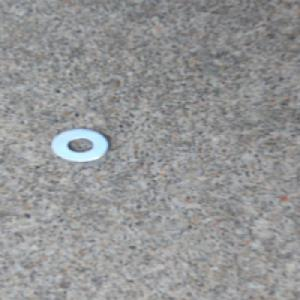Washer: (47, 127, 114, 165)
